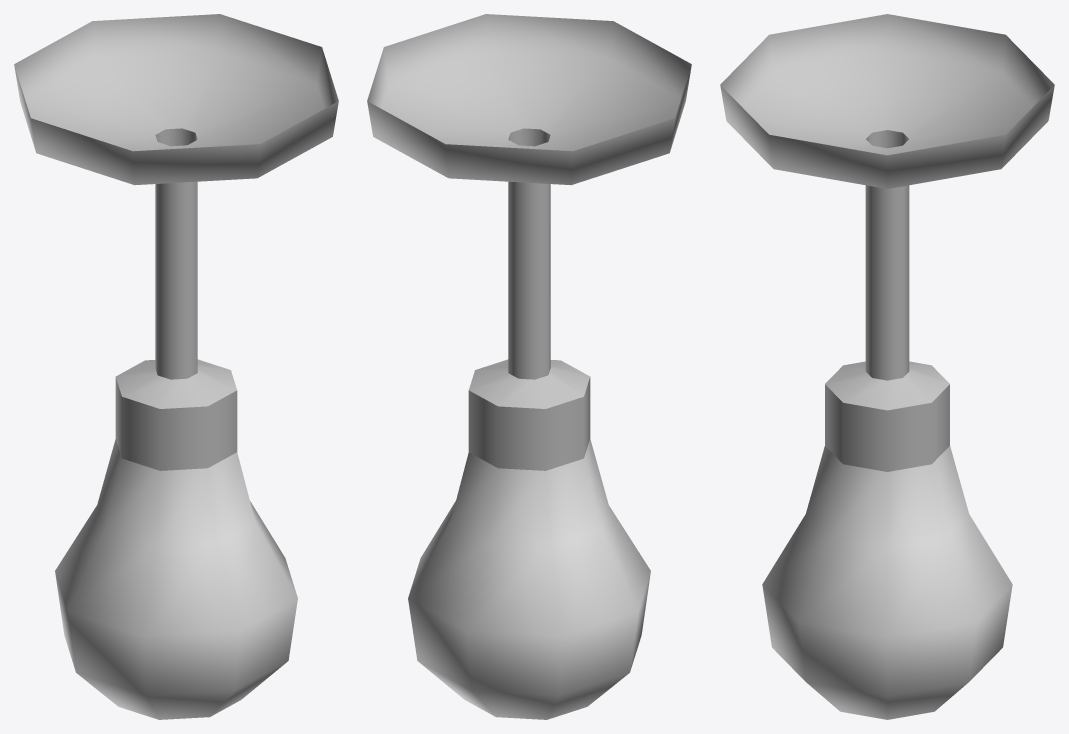
Rendered from lightFitting.fbx.
3 views of the same model, side by side, from view 1: azimuth 30°, elevation 25°; view 2: azimuth 150°, elevation 25°; view 3: azimuth 270°, elevation 25° (orthographic).
Parts seen in each view (by area): view 1: lightFitting, lightBulb; view 2: lightFitting, lightBulb; view 3: lightFitting, lightBulb.
Boxes of the visible parts, x1=… form: lightFitting: x1=14, y1=14, x2=338, y2=470; lightBulb: x1=55, y1=439, x2=297, y2=719; lightFitting: x1=367, y1=14, x2=691, y2=470; lightBulb: x1=408, y1=439, x2=650, y2=719; lightFitting: x1=720, y1=14, x2=1054, y2=471; lightBulb: x1=762, y1=446, x2=1012, y2=719.
Bounding box in the file's own units: 0.8353 × 1.71 × 0.8352.
2 materials, 1 textured.
